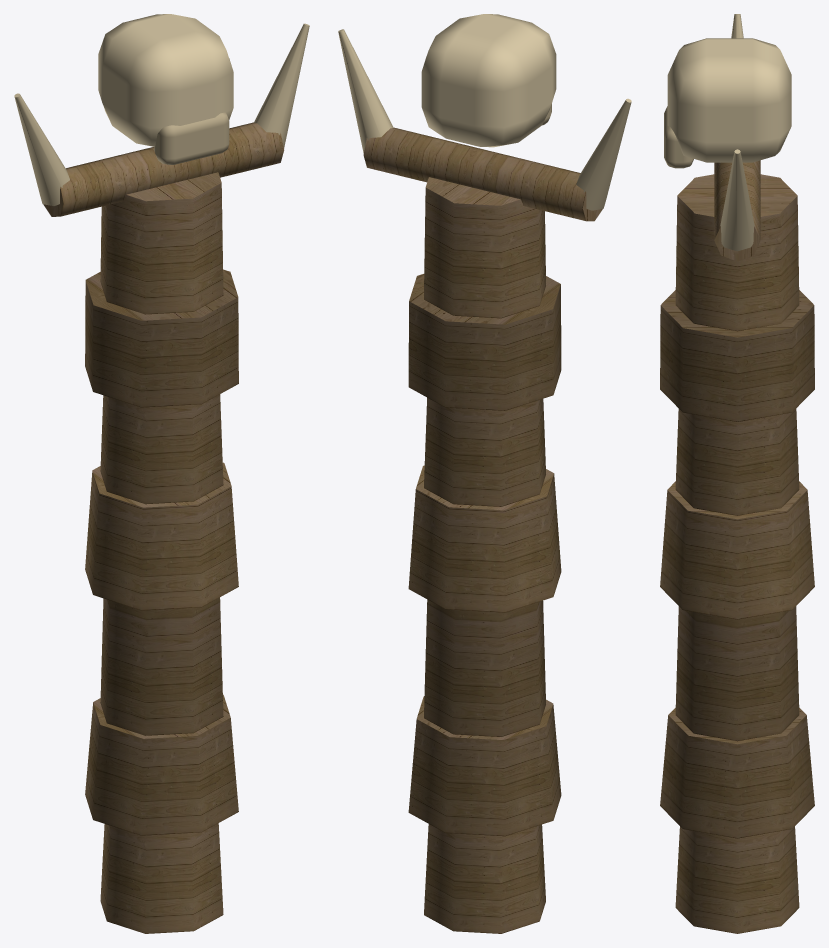
File: totem.glb
The picture shows the model from 3 angles, left to right: view 1: azimuth 30°, elevation 25°; view 2: azimuth 150°, elevation 25°; view 3: azimuth 270°, elevation 25°; orthographic projection. The views are drawn at different scales.
Parts seen in each view (by area): view 1: prop; view 2: prop; view 3: prop.
Part boxes in pixels (<box>): prop: <box>14,14,309,933</box>; prop: <box>338,14,631,933</box>; prop: <box>660,14,814,933</box>.
Bounding box in the file's own units: 0.8547 × 2.45 × 0.4.
2 materials, 1 textured.
